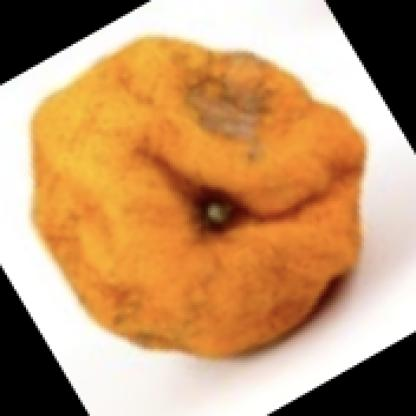rotten: (31, 33, 366, 360)
